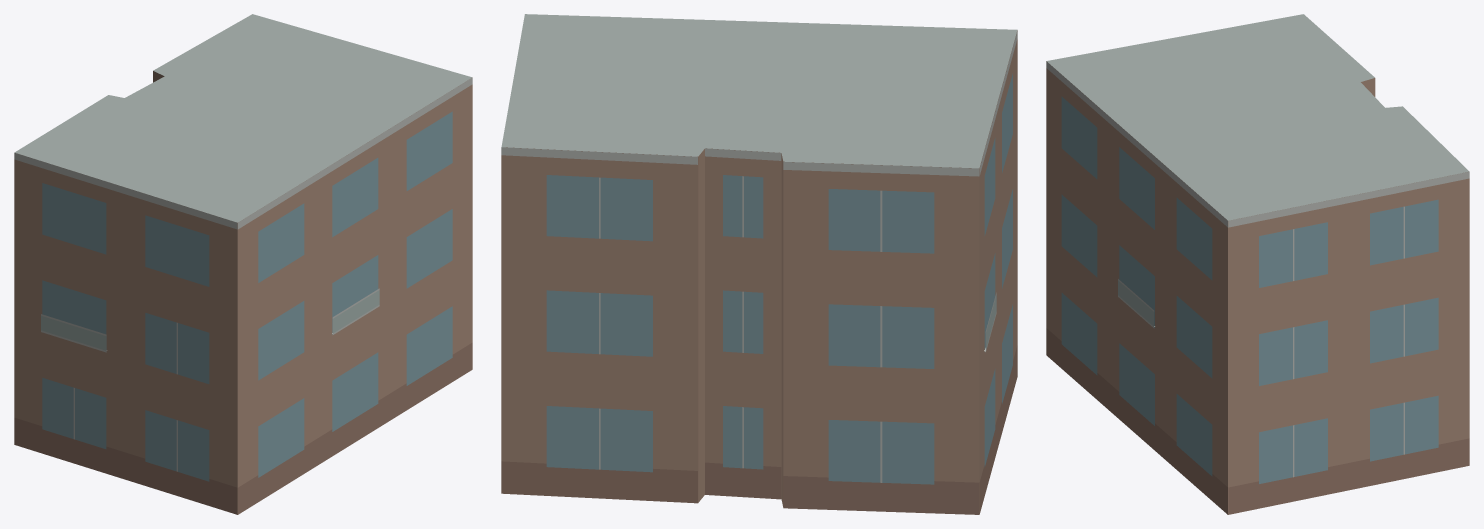
File: survey-upis-32933007.glb
3 views of the same model, side by side, from view 1: azimuth 30°, elevation 25°; view 2: azimuth 150°, elevation 25°; view 3: azimuth 270°, elevation 25° (orthographic). The views are drawn at different scales.
Parts seen in each view (by area): view 1: survey-upis-32933007.tmp; view 2: survey-upis-32933007.tmp; view 3: survey-upis-32933007.tmp.
Boxes of the visible parts, x1,y1,x2,y2 form: survey-upis-32933007.tmp: (14, 14, 472, 514); survey-upis-32933007.tmp: (501, 14, 1017, 514); survey-upis-32933007.tmp: (1046, 14, 1469, 514).
Bounding box in the file's own units: 15.69 × 10.4 × 13.57.
